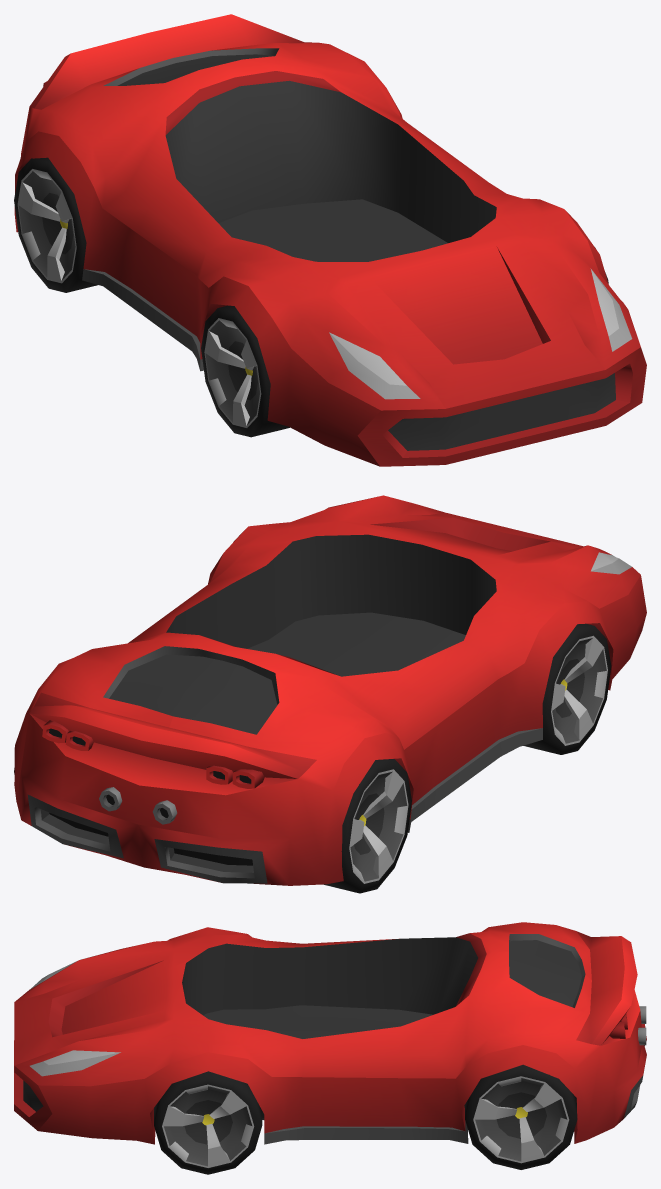
The model's file is Ferrari_placeholder.fbx.
3 views of the same model, one above another, from view 1: azimuth 30°, elevation 25°; view 2: azimuth 150°, elevation 25°; view 3: azimuth 270°, elevation 25° (orthographic). The views are drawn at different scales.
Visible parts, largest first — view 1: Wagon_Ferrari, Roues_Arrieres.007, Roues_Avant.007; view 2: Wagon_Ferrari, Roues_Arrieres.007, Roues_Avant.007; view 3: Wagon_Ferrari, Roues_Arrieres.007, Roues_Avant.007.
Part boxes in pixels (x1=…): Wagon_Ferrari: x1=14, y1=14, x2=646, y2=466; Roues_Arrieres.007: x1=14, y1=157, x2=97, y2=292; Roues_Avant.007: x1=201, y1=248, x2=608, y2=437; Wagon_Ferrari: x1=14, y1=495, x2=646, y2=885; Roues_Arrieres.007: x1=14, y1=759, x2=411, y2=893; Roues_Avant.007: x1=523, y1=623, x2=611, y2=754; Wagon_Ferrari: x1=14, y1=922, x2=646, y2=1144; Roues_Arrieres.007: x1=465, y1=1064, x2=577, y2=1169; Roues_Avant.007: x1=154, y1=1071, x2=262, y2=1174.
Size of the model in its own units: 288 by 151 by 560.
